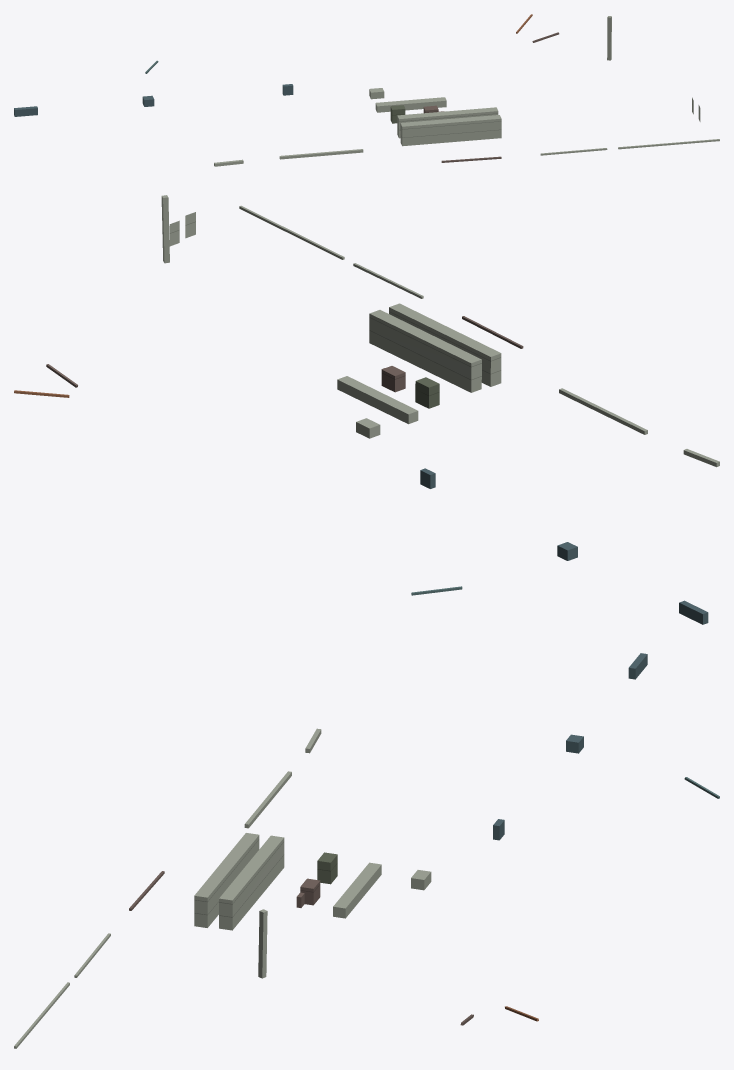
Rendered from terminal-80---19_14.glb.
The picture shows the model from 3 angles, top to bottom: view 1: azimuth 30°, elevation 25°; view 2: azimuth 150°, elevation 25°; view 3: azimuth 270°, elevation 25°; orthographic projection. The views are drawn at different scales.
Parts seen in each view (by area): view 1: measured-industrial; view 2: measured-industrial; view 3: measured-industrial.
Boxes of the visible parts, bbox=[...] form: measured-industrial: bbox=[14, 14, 719, 166]; measured-industrial: bbox=[14, 195, 719, 624]; measured-industrial: bbox=[14, 653, 719, 1048].
Bounding box in the file's own units: 176 × 25.4 × 134.
